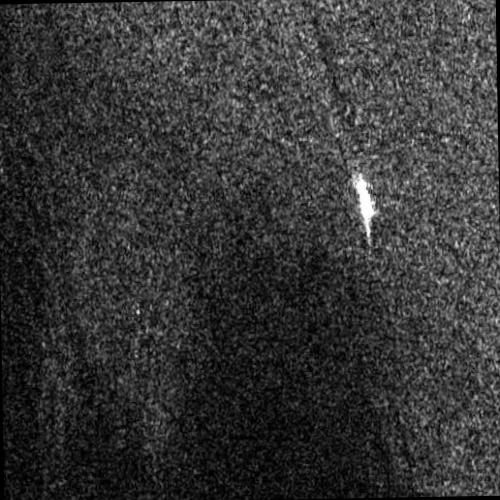ship: (354, 175, 378, 237)
